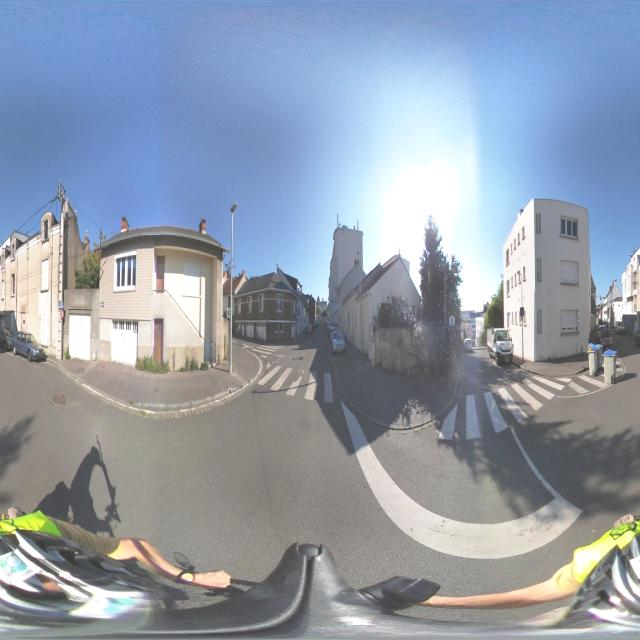car: (13, 330, 47, 362), (492, 327, 512, 362), (495, 334, 514, 366), (331, 329, 346, 355), (464, 336, 473, 351)
